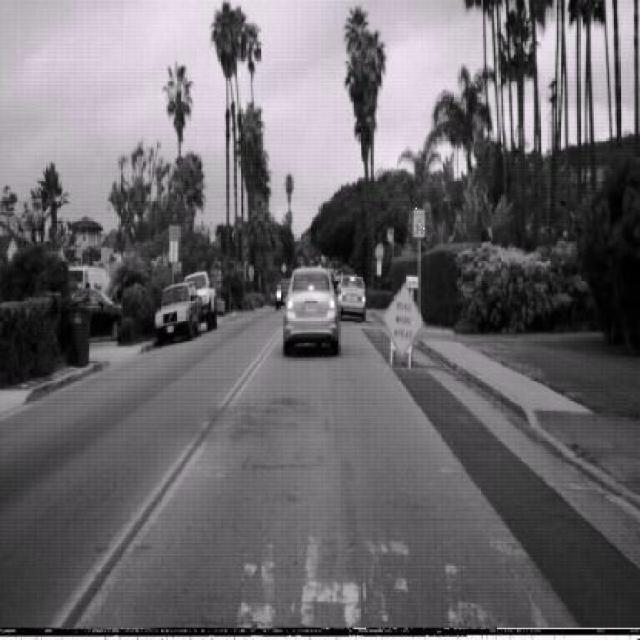speedLimit30: (412, 208, 426, 238)
